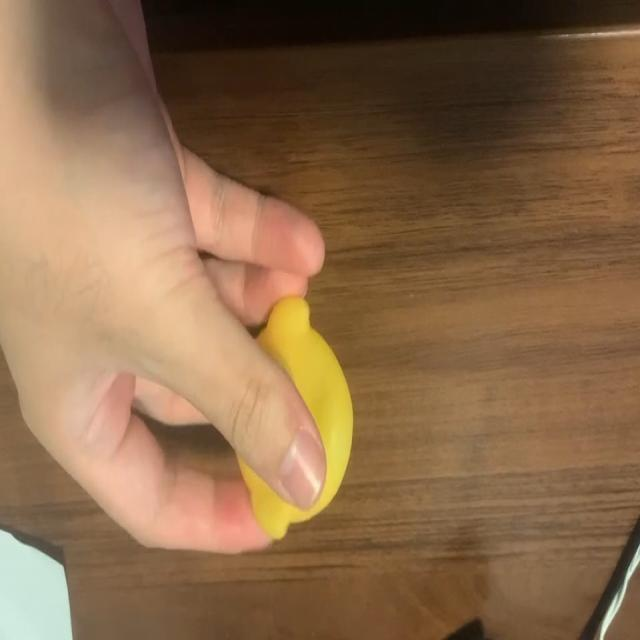rubber-duck: (238, 296, 351, 537)
